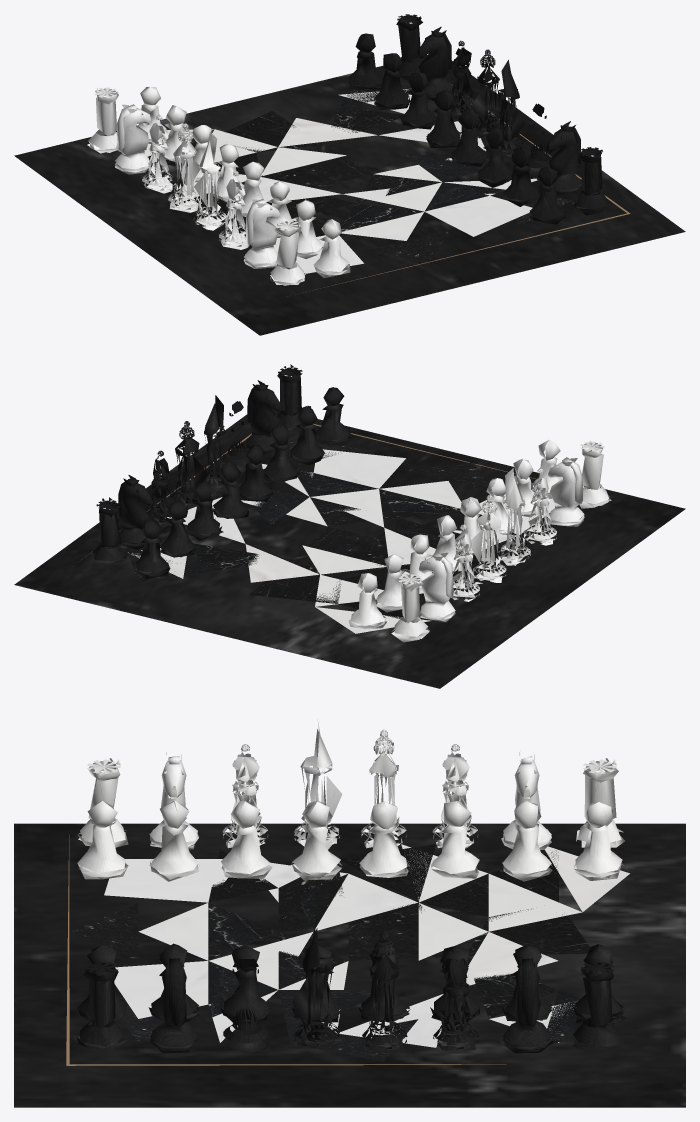
The model's file is chess_board.glb.
The picture shows the model from 3 angles, top to bottom: view 1: azimuth 30°, elevation 25°; view 2: azimuth 150°, elevation 25°; view 3: azimuth 270°, elevation 25°; orthographic projection. The views are drawn at different scales.
Parts seen in each view (by area): view 1: Chess Board_08 - Default_0, Chess Board_02 - Default_0, Chess Board_07 - Default_0, W_Knight_2_02 - Default_0, W_Knight_1_02 - Default_0, B_Knight_1_01 - Default_0, B_Knight_2_01 - Default_0, W_King_02 - Default_0, W_Queen_02 - Default_0, B_Rook_1_01 - Default_0, W_Rook_1_02 - Default_0, B_King_01 - Default_0 (+24 smaller); view 2: Chess Board_08 - Default_0, Chess Board_02 - Default_0, Chess Board_07 - Default_0, W_Knight_1_02 - Default_0, W_Knight_2_02 - Default_0, B_Knight_2_01 - Default_0, B_Knight_1_01 - Default_0, W_Queen_02 - Default_0, B_Queen_01 - Default_0, W_Rook_2_02 - Default_0, W_King_02 - Default_0, B_Rook_2_01 - Default_0 (+23 smaller); view 3: Chess Board_08 - Default_0, Chess Board_02 - Default_0, Chess Board_07 - Default_0, B_King_01 - Default_0, B_Rook_2_01 - Default_0, B_Rook_1_01 - Default_0, B_Knight_2_01 - Default_0, B_Queen_01 - Default_0, B_Knight_1_01 - Default_0, B_Bishop_2_01 - Default_0, W_Pawn_7_02 - Default_0, W_Pawn_8_02 - Default_0 (+24 smaller).
Part boxes in pixels (left/top/right/bottom): Chess Board_08 - Default_0: left=14, top=55, right=685, bottom=335; Chess Board_02 - Default_0: left=148, top=85, right=572, bottom=259; Chess Board_07 - Default_0: left=144, top=89, right=537, bottom=273; W_Knight_2_02 - Default_0: left=115, top=104, right=151, bottom=174; W_Knight_1_02 - Default_0: left=243, top=199, right=280, bottom=268; B_Knight_1_01 - Default_0: left=546, top=121, right=581, bottom=195; B_Knight_2_01 - Default_0: left=416, top=26, right=452, bottom=100; W_King_02 - Default_0: left=193, top=132, right=226, bottom=230; W_Queen_02 - Default_0: left=168, top=123, right=201, bottom=212; B_Rook_1_01 - Default_0: left=571, top=147, right=609, bottom=215; W_Rook_1_02 - Default_0: left=270, top=220, right=305, bottom=285; B_King_01 - Default_0: left=498, top=59, right=525, bottom=156; Chess Board_08 - Default_0: left=14, top=408, right=685, bottom=688; Chess Board_02 - Default_0: left=127, top=440, right=540, bottom=622; Chess Board_07 - Default_0: left=128, top=449, right=554, bottom=633; W_Knight_1_02 - Default_0: left=548, top=457, right=584, bottom=526; W_Knight_2_02 - Default_0: left=418, top=551, right=455, bottom=622; B_Knight_2_01 - Default_0: left=118, top=475, right=152, bottom=549; B_Knight_1_01 - Default_0: left=246, top=380, right=282, bottom=454; W_Queen_02 - Default_0: left=471, top=494, right=506, bottom=582; B_Queen_01 - Default_0: left=170, top=421, right=208, bottom=510; W_Rook_2_02 - Default_0: left=391, top=572, right=429, bottom=642; W_King_02 - Default_0: left=497, top=468, right=530, bottom=565; B_Rook_2_01 - Default_0: left=91, top=497, right=126, bottom=564; Chess Board_08 - Default_0: left=14, top=823, right=685, bottom=1107; Chess Board_02 - Default_0: left=70, top=844, right=629, bottom=1061; Chess Board_07 - Default_0: left=104, top=844, right=629, bottom=1047; B_King_01 - Default_0: left=292, top=917, right=340, bottom=1048; B_Rook_2_01 - Default_0: left=573, top=960, right=623, bottom=1051; B_Rook_1_01 - Default_0: left=74, top=960, right=127, bottom=1051; B_Knight_2_01 - Default_0: left=502, top=958, right=553, bottom=1053; B_Queen_01 - Default_0: left=361, top=931, right=407, bottom=1050; B_Knight_1_01 - Default_0: left=149, top=958, right=198, bottom=1053; B_Bishop_2_01 - Default_0: left=433, top=945, right=478, bottom=1050; W_Pawn_7_02 - Default_0: left=502, top=801, right=552, bottom=881; W_Pawn_8_02 - Default_0: left=573, top=801, right=623, bottom=880.
Bounding box in the file's own units: 2.02 × 0.4873 × 2.02.
6 materials, 5 textured.
